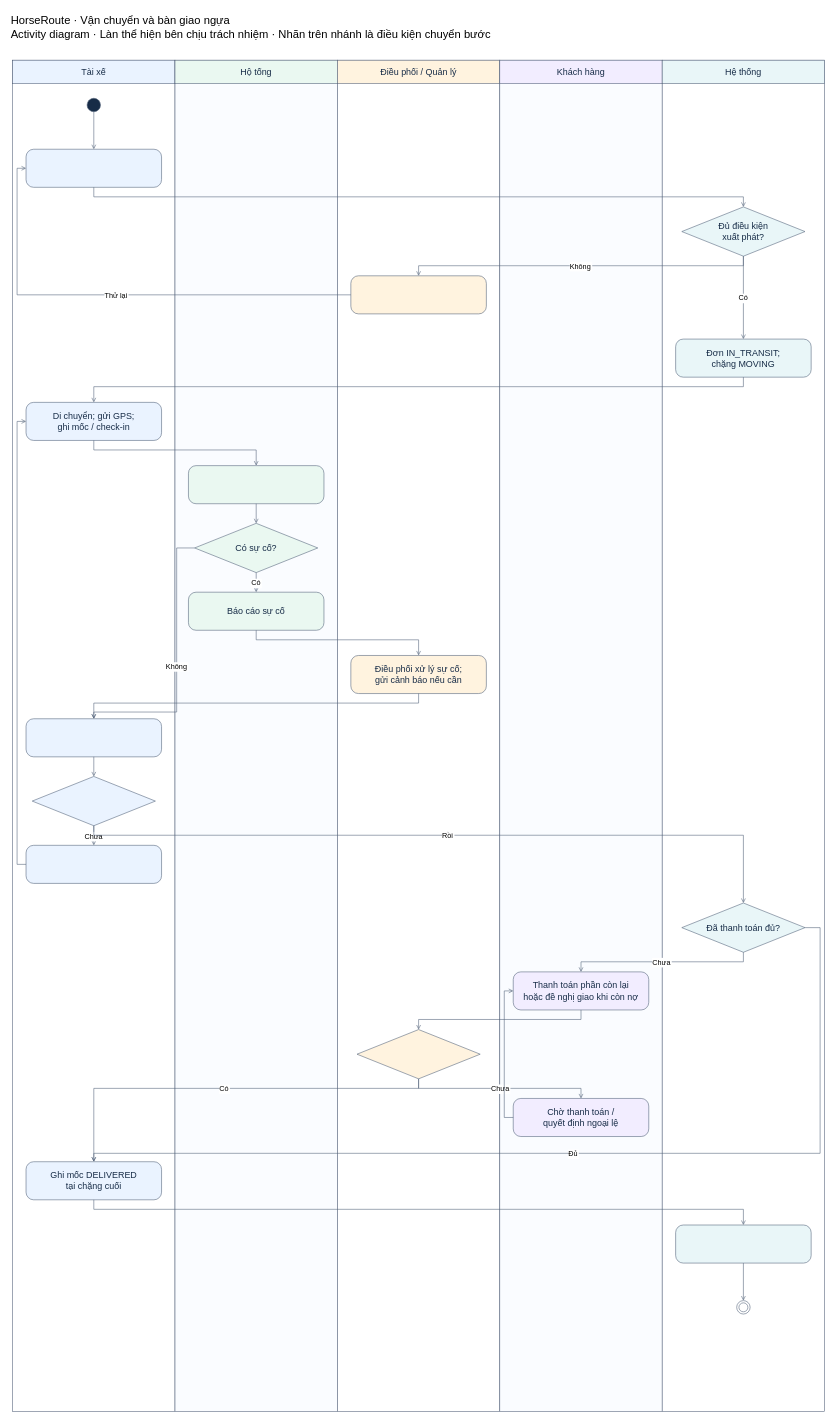
Image size: 837x1421. Some labels were removed from this diagram. Here are the shapes that lost their labels. From the top down, the box of each, then its label:
(25, 149, 162, 187): Chuyến READY: ghi mốc DEPARTED
(350, 275, 486, 314): Xử lý xe / tổ lái / ngựa đang bị chặn
(188, 465, 324, 504): Ghi chăm sóc, sức khỏe; gửi báo cáo cho khách
(25, 718, 162, 757): Đến điểm dừng / đích; ghi nhận thông quan nếu áp dụng
(32, 776, 155, 826): Đã đến chặng cuối?
(25, 845, 162, 883): Hoàn tất chặng trung gian; xuất phát chặng tiếp theo
(356, 1029, 480, 1079): Đã trả đủ hoặc ngoại lệ đã duyệt và mở?
(675, 1224, 811, 1263): Kiểm tra quyền giao; đơn DELIVERED, chặng COMPLETED
